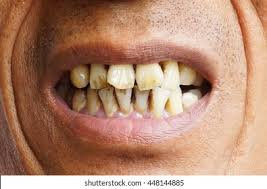decay: (114, 88, 131, 115), (132, 89, 148, 117)
normal: (182, 90, 195, 107), (190, 87, 200, 101)
yellow: (135, 65, 164, 90), (107, 65, 133, 89), (162, 62, 180, 89), (148, 88, 166, 115), (90, 64, 107, 89), (98, 89, 114, 115), (85, 89, 101, 114), (167, 90, 183, 114), (179, 64, 195, 84), (71, 68, 88, 86), (72, 89, 85, 111)
